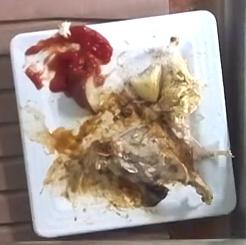chicken: (31, 48, 213, 207)
